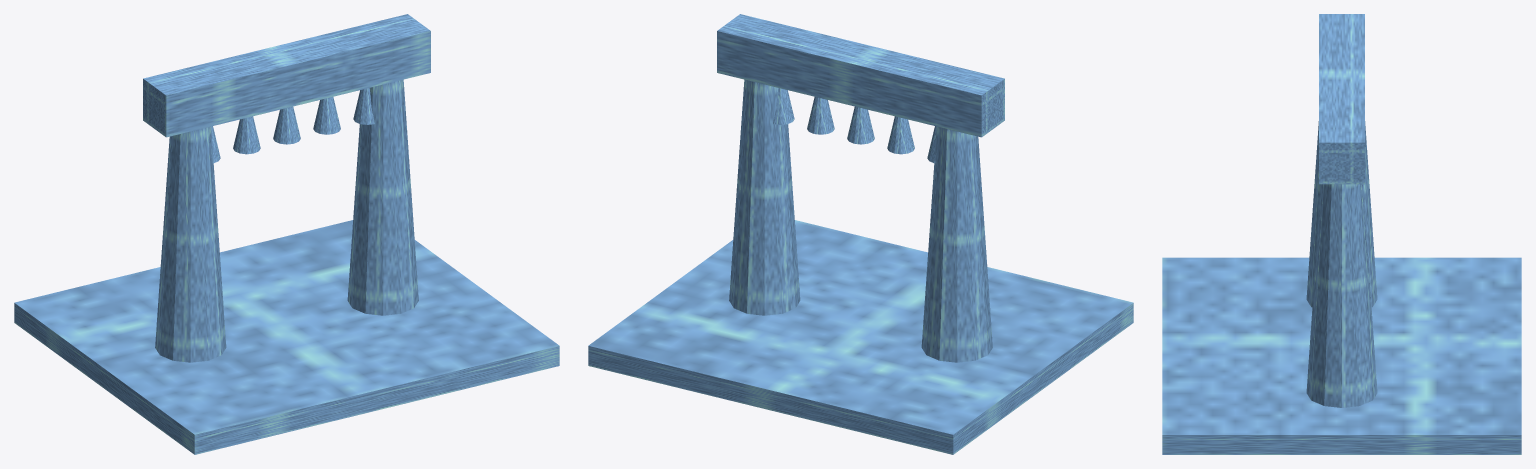
The model's file is frost_arch_02.glb.
3 renders of one model, left to right at view 1: azimuth 30°, elevation 25°; view 2: azimuth 150°, elevation 25°; view 3: azimuth 270°, elevation 25°, orthographic.
Parts seen in each view (by area): view 1: Foundation, FrozenLintel, IceColumn, IceColumn.001, Icicle.002, Icicle.003, Icicle.001, Icicle.004; view 2: Foundation, FrozenLintel, IceColumn, IceColumn.001, Icicle.002, Icicle.003, Icicle.001, Icicle.004; view 3: Foundation, IceColumn.001, FrozenLintel, IceColumn.
Part boxes in pixels (x1=…): Foundation: x1=14, y1=220, x2=559, y2=454; FrozenLintel: x1=143, y1=14, x2=430, y2=137; IceColumn: x1=155, y1=126, x2=226, y2=362; IceColumn.001: x1=347, y1=79, x2=418, y2=315; Icicle.002: x1=273, y1=106, x2=300, y2=144; Icicle.003: x1=313, y1=97, x2=340, y2=134; Icicle.001: x1=233, y1=116, x2=260, y2=154; Icicle.004: x1=353, y1=88, x2=374, y2=124; Foundation: x1=588, y1=220, x2=1133, y2=454; FrozenLintel: x1=717, y1=14, x2=1004, y2=137; IceColumn: x1=921, y1=126, x2=992, y2=362; IceColumn.001: x1=729, y1=79, x2=800, y2=315; Icicle.002: x1=847, y1=106, x2=874, y2=144; Icicle.003: x1=807, y1=97, x2=834, y2=134; Icicle.001: x1=887, y1=116, x2=914, y2=154; Icicle.004: x1=773, y1=88, x2=794, y2=124; Foundation: x1=1162, y1=257, x2=1521, y2=454; IceColumn.001: x1=1306, y1=184, x2=1377, y2=407; FrozenLintel: x1=1319, y1=14, x2=1364, y2=184; IceColumn: x1=1306, y1=121, x2=1377, y2=307.
Bounding box in the file's own units: 4.55 × 3.45 × 3.9.
1 material, 1 textured.
